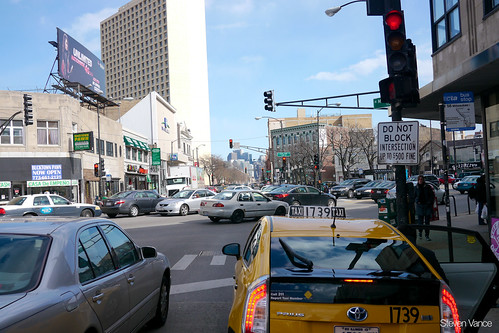building: (97, 1, 210, 166), (1, 100, 124, 203), (120, 99, 194, 206), (271, 112, 372, 186)
car: (234, 213, 461, 333), (1, 214, 175, 333), (1, 187, 104, 222), (195, 189, 290, 220), (156, 183, 213, 218), (98, 182, 155, 217)
crosswalk: (171, 241, 235, 287)
sign: (54, 36, 116, 102), (376, 122, 417, 169), (438, 90, 477, 133)
sky: (215, 1, 371, 102)
